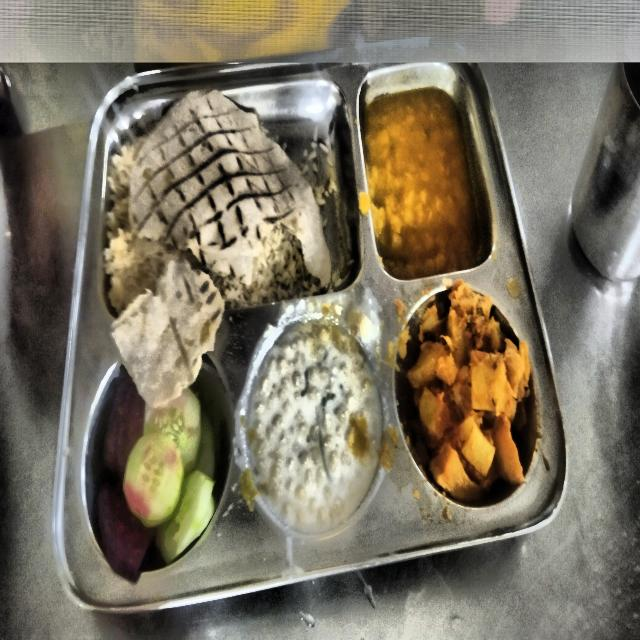Chilli-paneer: (361, 87, 485, 278)
Raita: (103, 143, 179, 316), (189, 220, 333, 310)
Red--chutney: (151, 129, 289, 237)
Salad-Mix: (124, 429, 197, 527)
Salad-onion: (407, 290, 531, 500)
daal-pulse: (247, 320, 381, 526)
